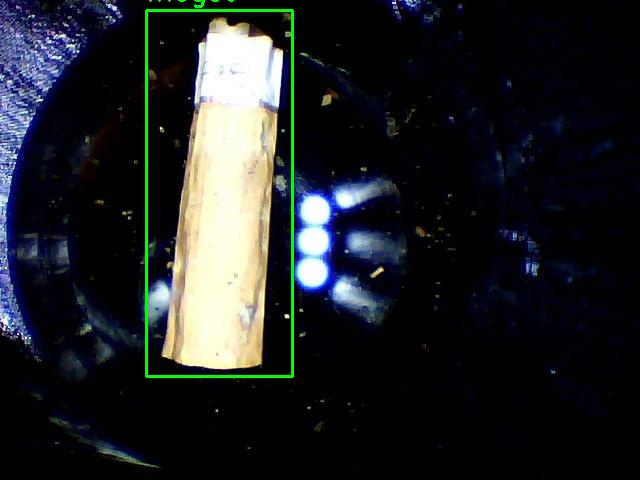megot: (146, 10, 292, 376)
